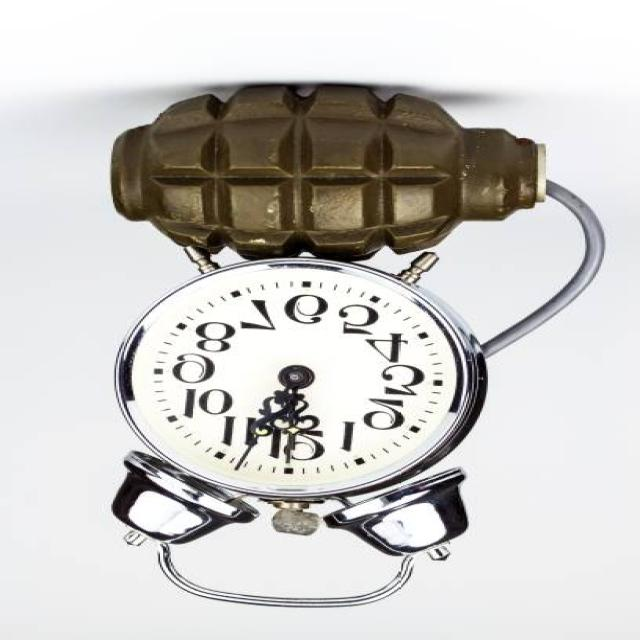grenade: (108, 80, 560, 266)
